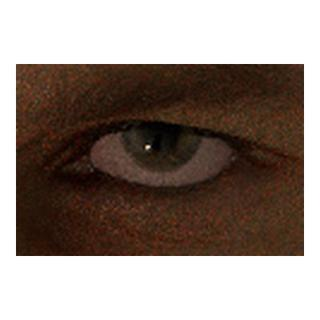pupil: (143, 111, 180, 148)
